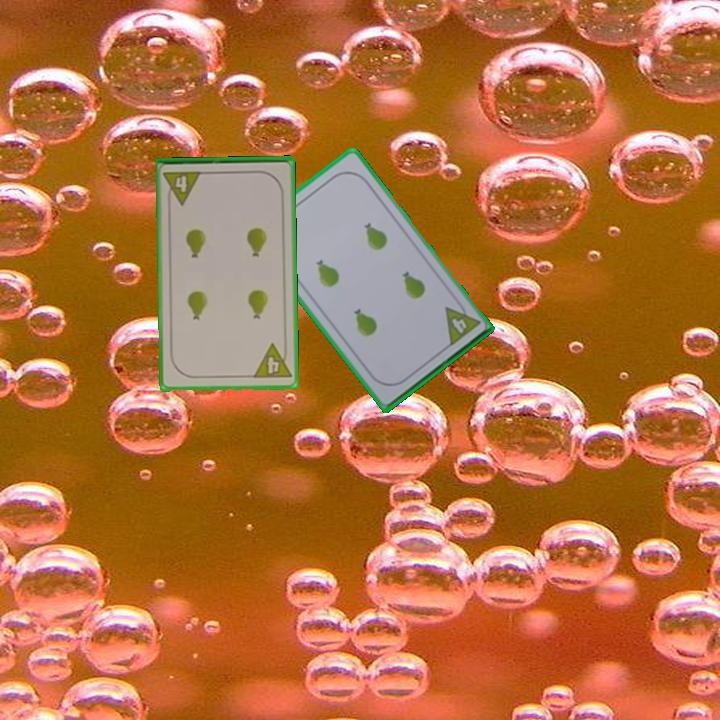4p: (441, 296, 483, 349), (250, 340, 294, 382), (160, 168, 205, 207)
